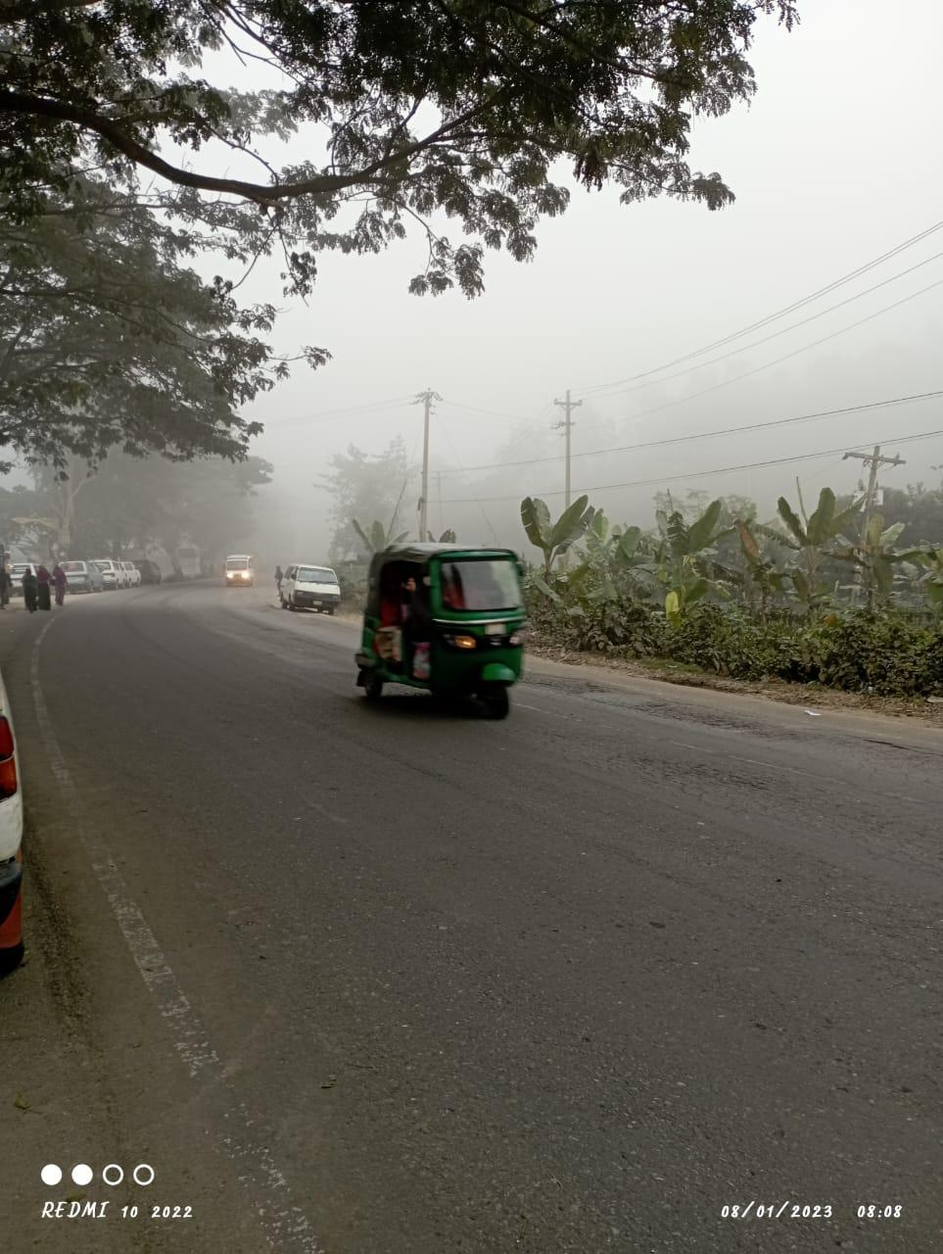Car: (268, 557, 353, 616), (217, 550, 259, 589)
